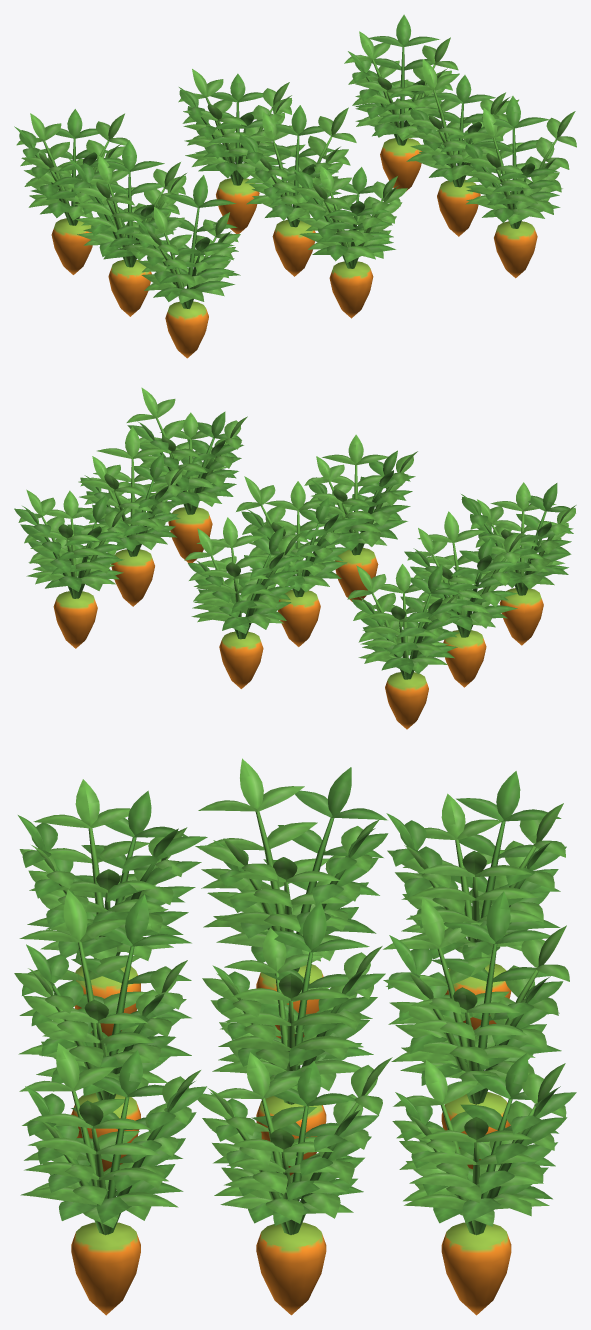
The model's file is crop_carrot.glb.
3 views of the same model, one above another, from view 1: azimuth 30°, elevation 25°; view 2: azimuth 150°, elevation 25°; view 3: azimuth 270°, elevation 25° (orthographic). The views are drawn at different scales.
Visible parts, largest first — view 1: P2_leaf, P0_leaf, P3_leaf, P1_leaf, P4_leaf, P8_leaf, P7_leaf, P6_leaf, P5_leaf, P2_fruit0, P0_fruit0, P1_fruit0 (+6 smaller); view 2: P7_leaf, P6_leaf, P8_leaf, P2_leaf, P3_leaf, P1_leaf, P5_leaf, P4_leaf, P0_leaf, P8_fruit0, P6_fruit0, P7_fruit0 (+6 smaller); view 3: P7_leaf, P2_leaf, P8_leaf, P5_leaf, P3_leaf, P1_leaf, P4_leaf, P6_leaf, P0_leaf, P2_fruit0, P5_fruit0, P8_fruit0 (+6 smaller).
Boxes of the visible parts, <box> form: P2_leaf: <box>460,96,576,228</box>; P0_leaf: <box>131,175,240,308</box>; P3_leaf: <box>69,140,186,267</box>; P1_leaf: <box>291,166,407,268</box>; P4_leaf: <box>237,105,356,227</box>; P8_leaf: <box>344,14,458,145</box>; P7_leaf: <box>178,69,292,185</box>; P6_leaf: <box>14,109,128,225</box>; P5_leaf: <box>400,59,518,187</box>; P2_fruit0: <box>494,221,537,278</box>; P0_fruit0: <box>165,301,208,358</box>; P1_fruit0: <box>329,261,373,318</box>; P7_leaf: <box>184,517,302,639</box>; P6_leaf: <box>347,564,463,679</box>; P8_leaf: <box>14,489,128,598</box>; P2_leaf: <box>126,387,247,514</box>; P3_leaf: <box>404,511,527,637</box>; P1_leaf: <box>304,434,417,555</box>; P5_leaf: <box>78,426,187,556</box>; P4_leaf: <box>236,476,357,597</box>; P0_leaf: <box>461,482,576,595</box>; P8_fruit0: <box>53,591,97,648</box>; P6_fruit0: <box>385,672,428,729</box>; P7_fruit0: <box>219,631,263,688</box>; P7_leaf: <box>383,891,569,1104</box>; P2_leaf: <box>19,1043,206,1235</box>; P8_leaf: <box>392,1053,576,1235</box>; P5_leaf: <box>197,1052,392,1234</box>; P3_leaf: <box>195,758,388,971</box>; P1_leaf: <box>14,889,191,1100</box>; P4_leaf: <box>202,901,385,1104</box>; P6_leaf: <box>386,771,566,968</box>; P0_leaf: <box>18,779,207,960</box>; P2_fruit0: <box>71,1222,140,1315</box>; P5_fruit0: <box>256,1222,326,1315</box>; P8_fruit0: <box>441,1222,511,1315</box>.
Bounding box in the file's own units: 1.33 × 0.4618 × 0.912.
Materials: 1 (1 with a texture image).
